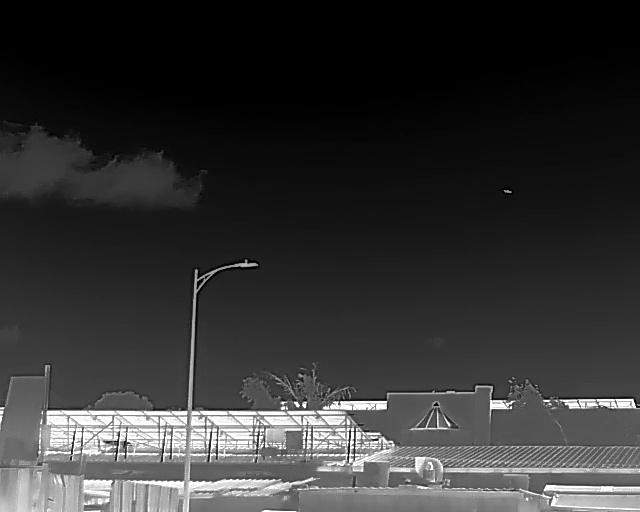fpv-drone: (502, 189, 512, 194)
